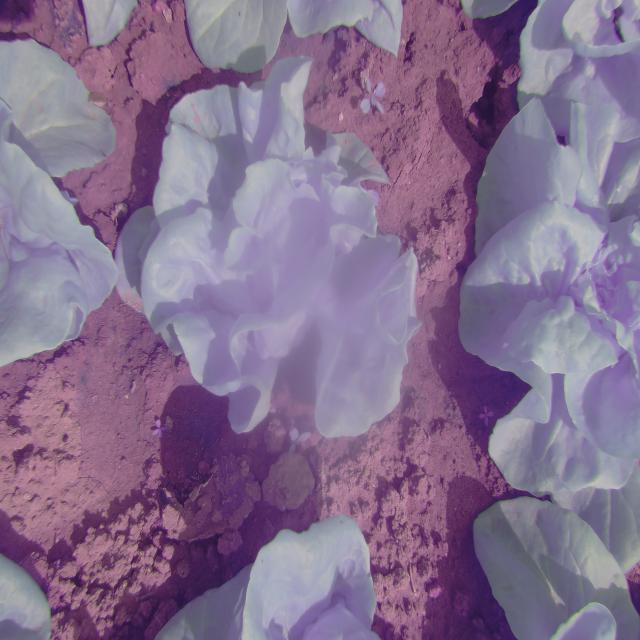vege: (128, 70, 422, 442)
